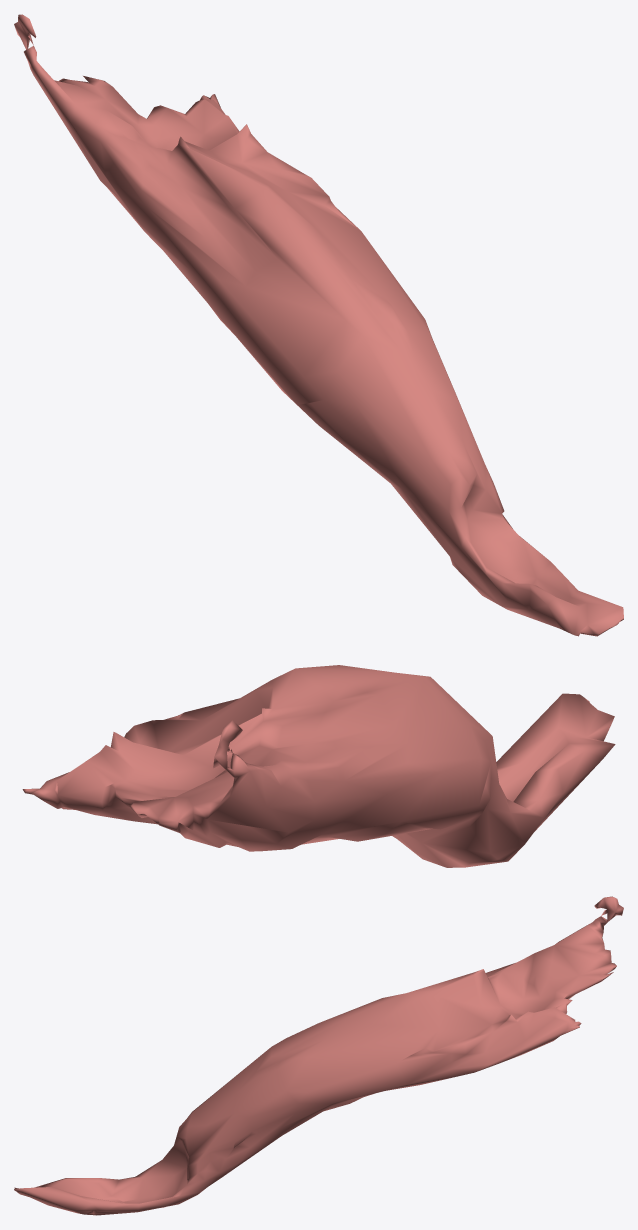
3 renders of one model, top to bottom at view 1: azimuth 30°, elevation 25°; view 2: azimuth 150°, elevation 25°; view 3: azimuth 270°, elevation 25°, orthographic. The views are drawn at different scales.
Visible parts, largest first — view 1: ZA_e27a5032afa44dd2; view 2: ZA_e27a5032afa44dd2; view 3: ZA_e27a5032afa44dd2.
Part boxes in pixels (left/top/right/bottom): ZA_e27a5032afa44dd2: left=14, top=14, right=623, bottom=636; ZA_e27a5032afa44dd2: left=22, top=665, right=615, bottom=867; ZA_e27a5032afa44dd2: left=14, top=896, right=623, bottom=1215.
Size of the model in its own units: 0.0209 by 0.0385 by 0.0813.
